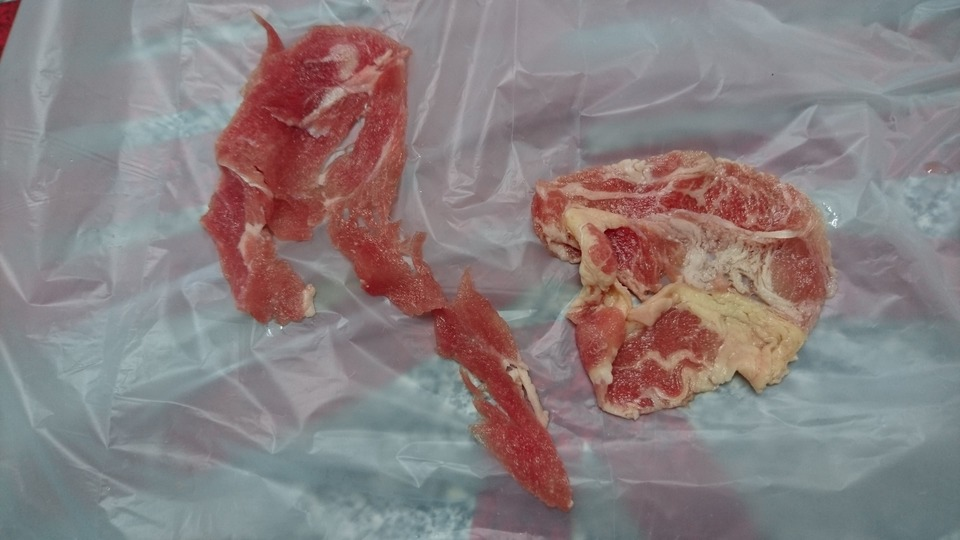restructured meat: (220, 28, 556, 493), (538, 141, 836, 411)
